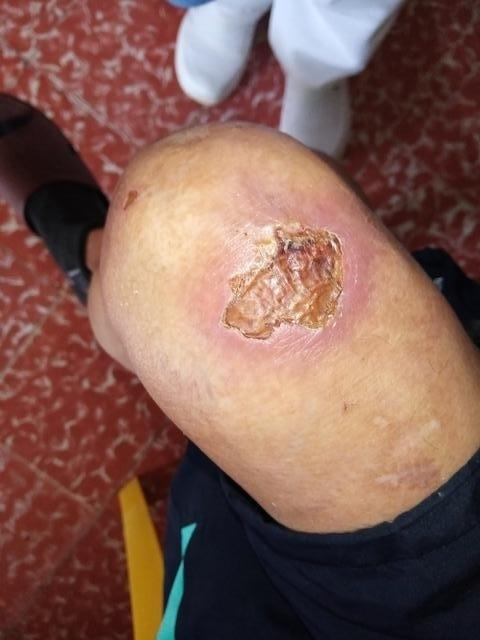wound: (223, 222, 347, 342)
